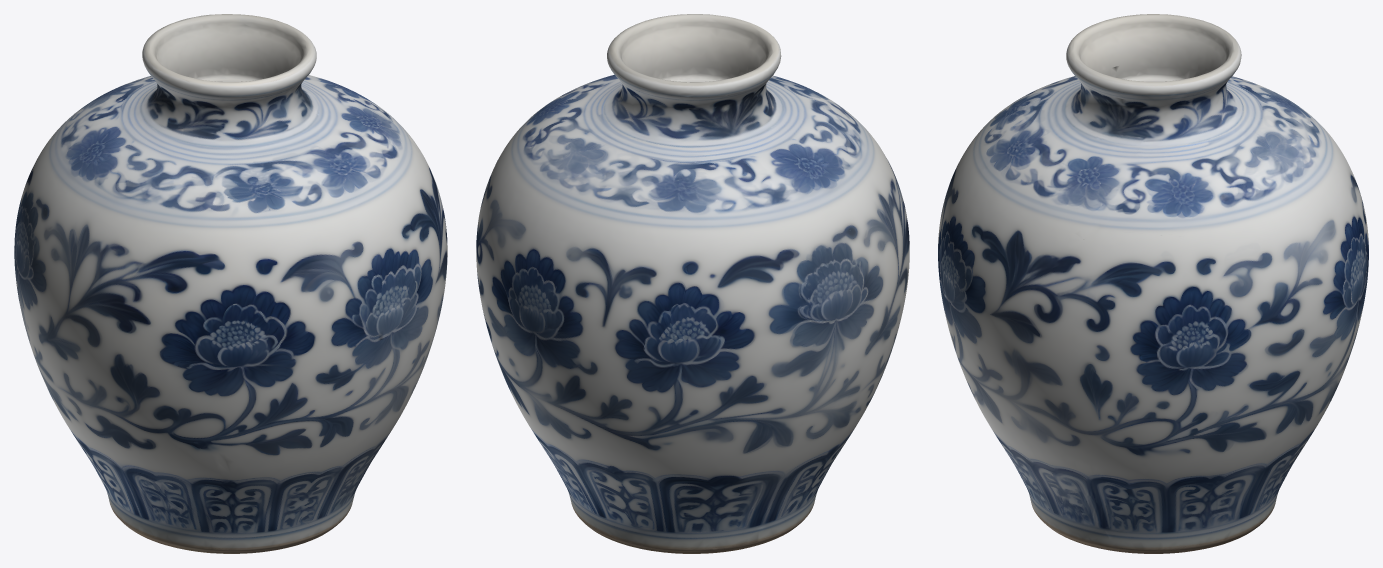
File: dailan.glb
3 views of the same model, side by side, from view 1: azimuth 30°, elevation 25°; view 2: azimuth 150°, elevation 25°; view 3: azimuth 270°, elevation 25° (orthographic).
Parts seen in each view (by area): view 1: node_0; view 2: node_0; view 3: node_0.
Boxes of the visible parts, bbox=[...] form: node_0: bbox=[14, 14, 447, 553]; node_0: bbox=[476, 14, 909, 553]; node_0: bbox=[938, 14, 1368, 553].
Bounding box in the file's own units: 0.9397 × 1.1 × 0.9358.
1 material, 1 textured.
